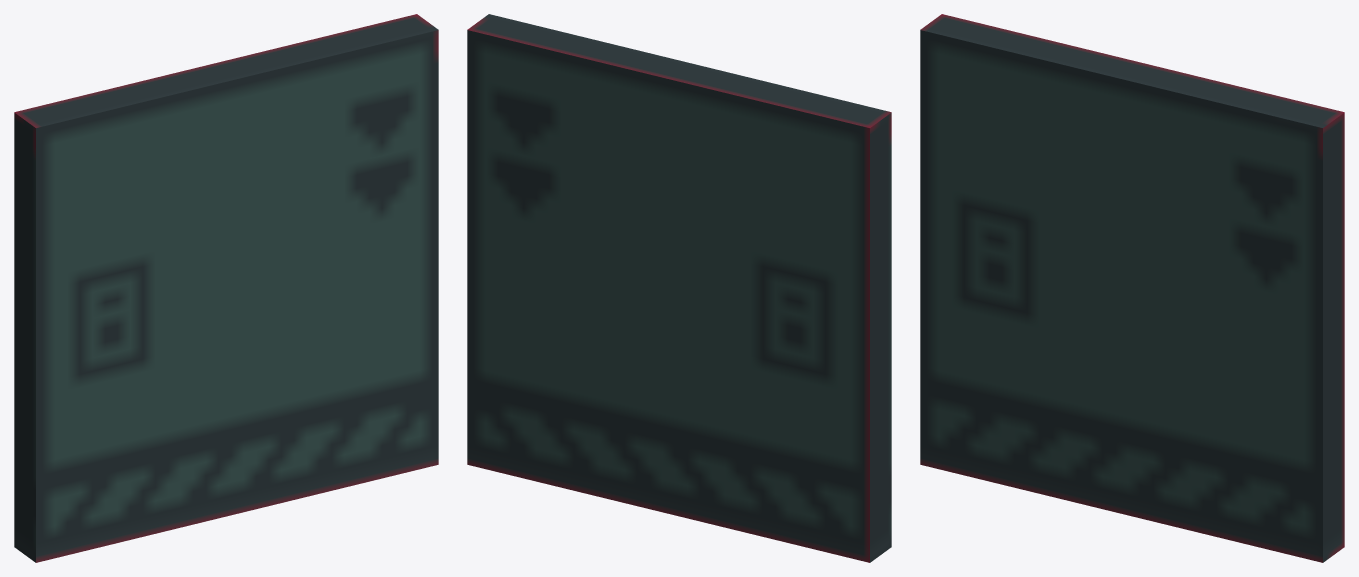
Rendered from Door.fbx.
3 views of the same model, side by side, from view 1: azimuth 30°, elevation 25°; view 2: azimuth 150°, elevation 25°; view 3: azimuth 330°, elevation 25° (orthographic).
Parts seen in each view (by area): view 1: Door.001; view 2: Door.001; view 3: Door.001.
Boxes of the visible parts, x1,y1,x2,y2 form: Door.001: (14, 14, 438, 562); Door.001: (467, 14, 891, 562); Door.001: (920, 14, 1344, 562).
Bounding box in the file's own units: 3.2 × 3.3 × 0.3.
